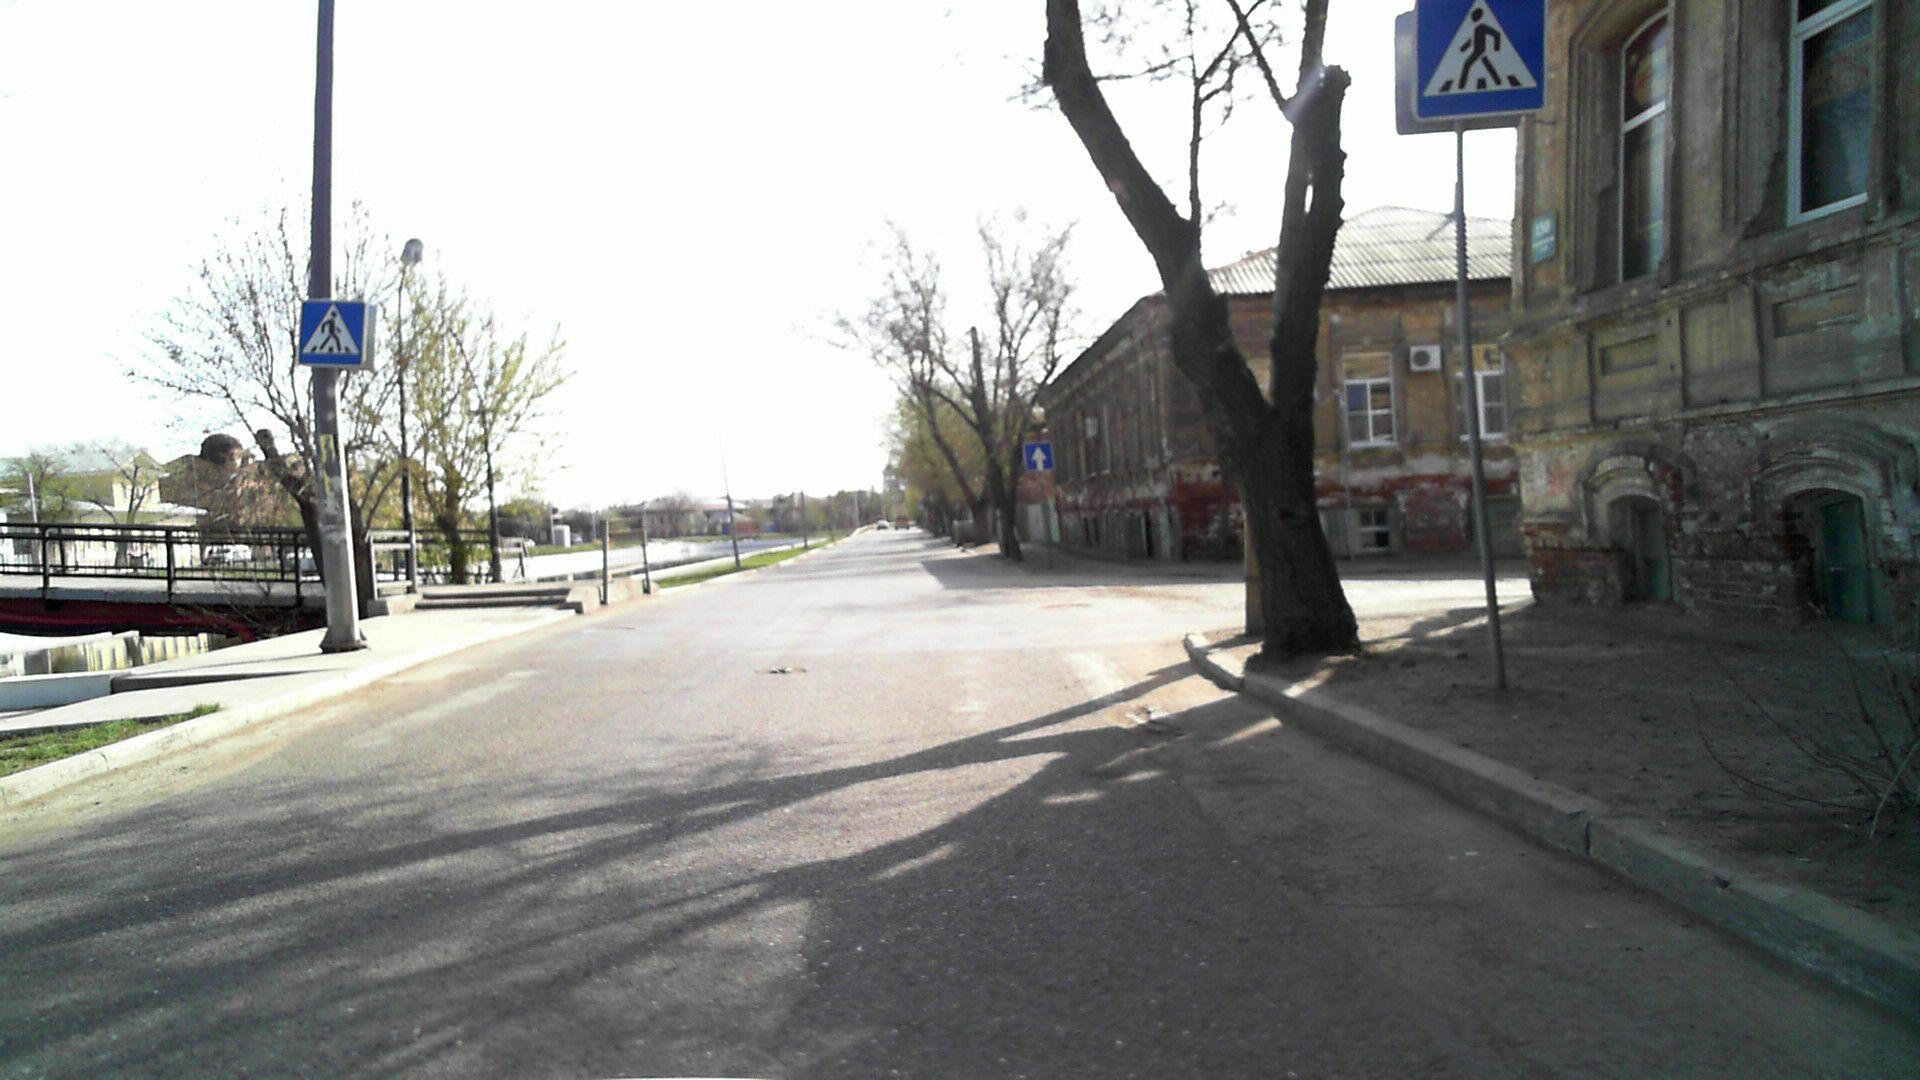5_19_1: (1414, 0, 1549, 116)
5_19_2: (294, 298, 364, 368)
5_5: (1026, 442, 1056, 472)
